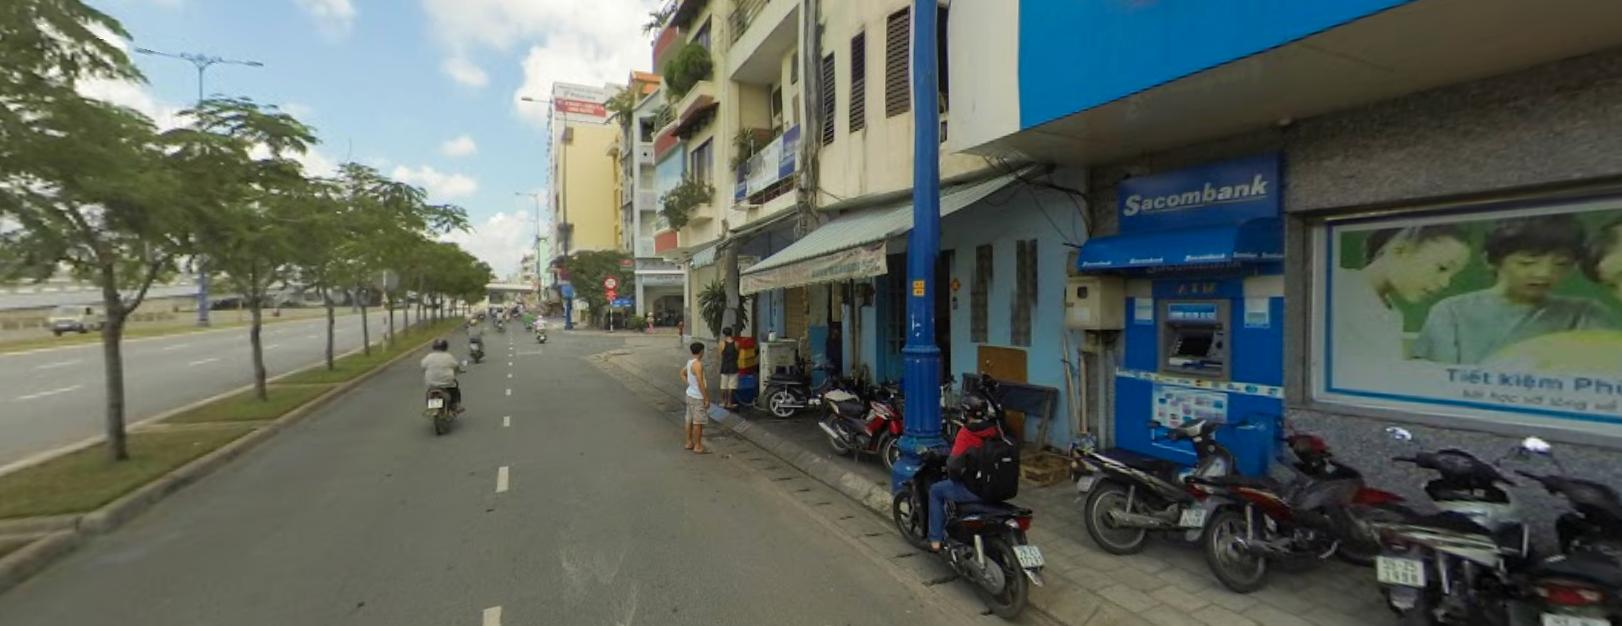Cam con lai: (603, 275, 617, 287)
